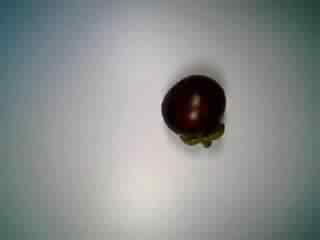mangosteen: (156, 71, 233, 150)
